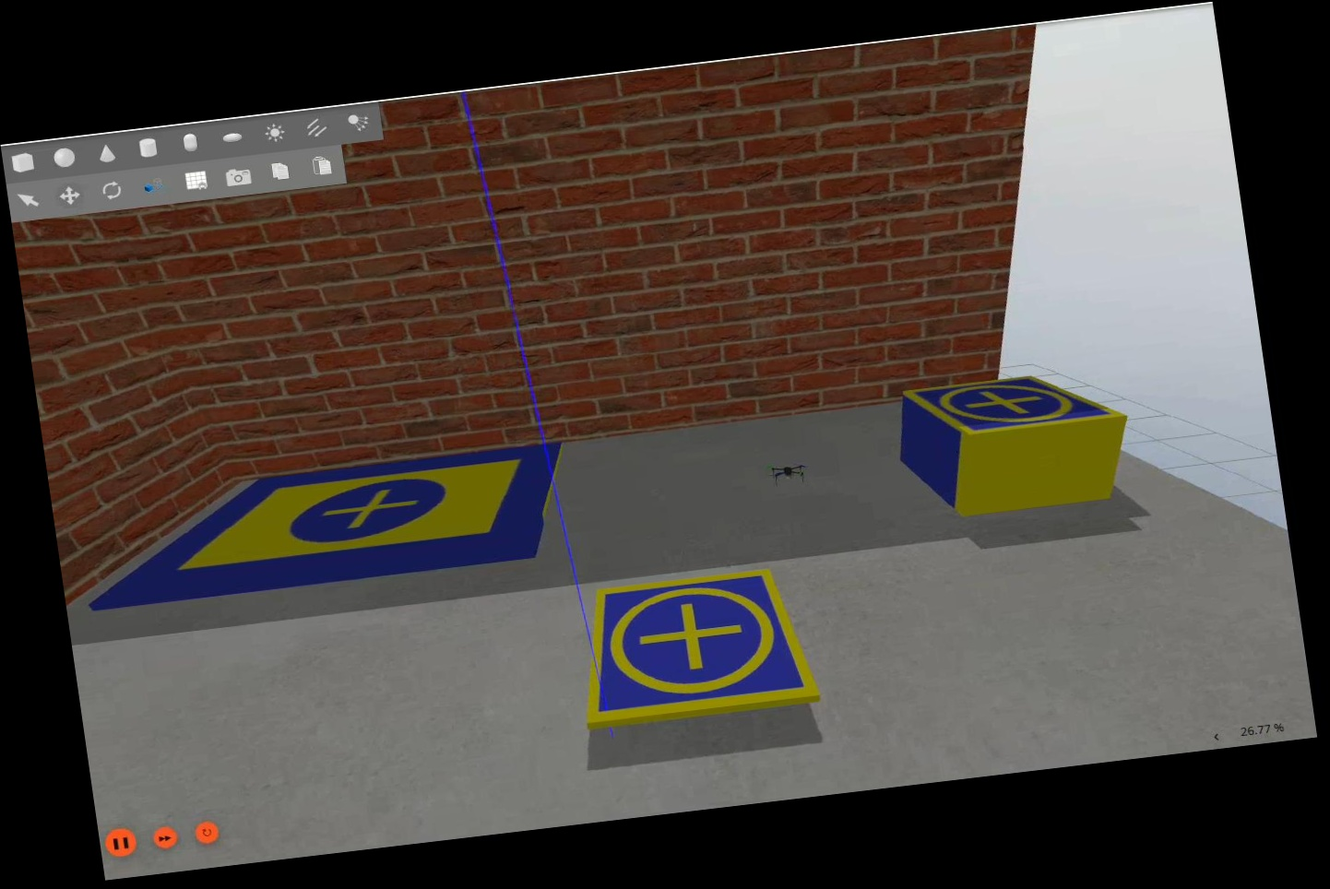large_base: (75, 440, 582, 612)
small_base: (567, 563, 825, 731), (897, 362, 1134, 453)
